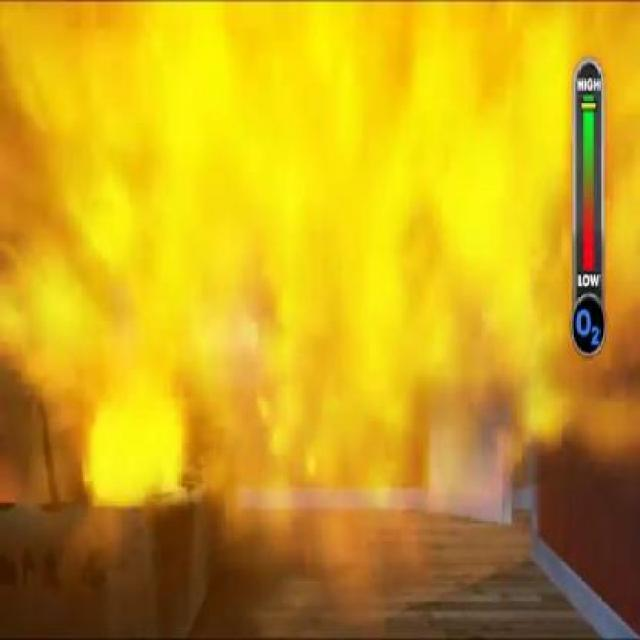fire: (40, 7, 552, 493)
